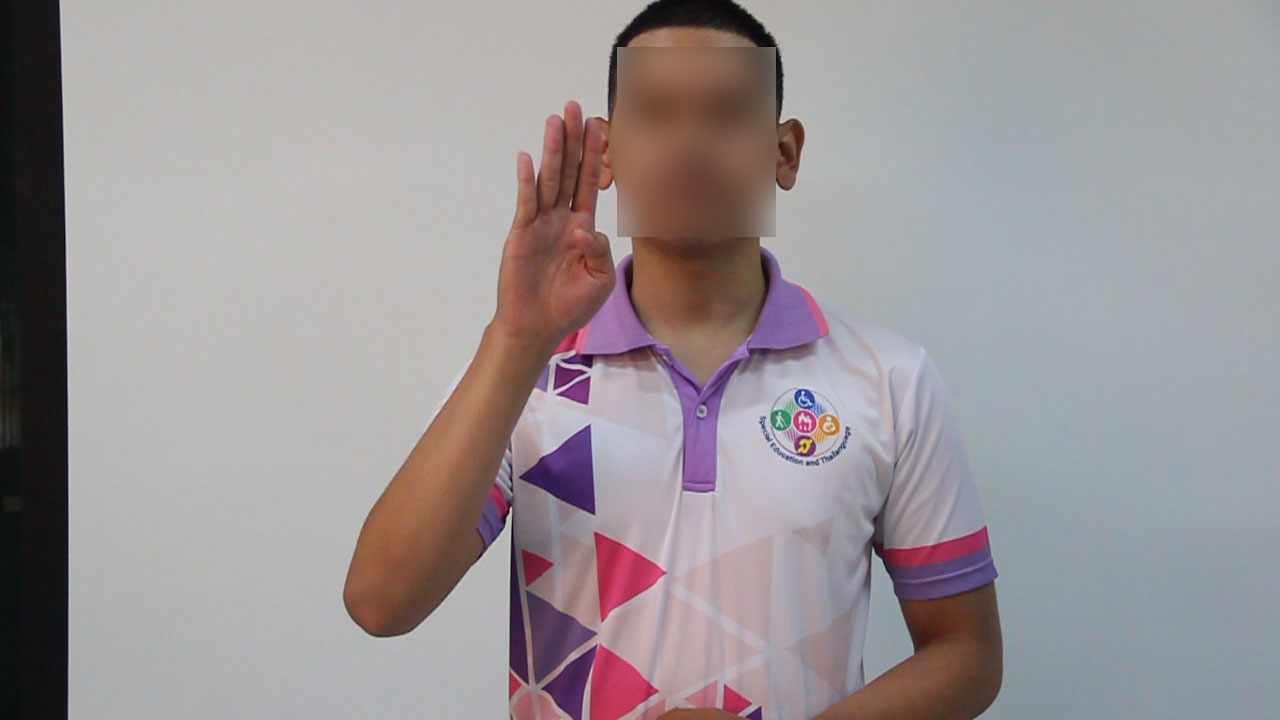bor: (481, 85, 621, 352)
